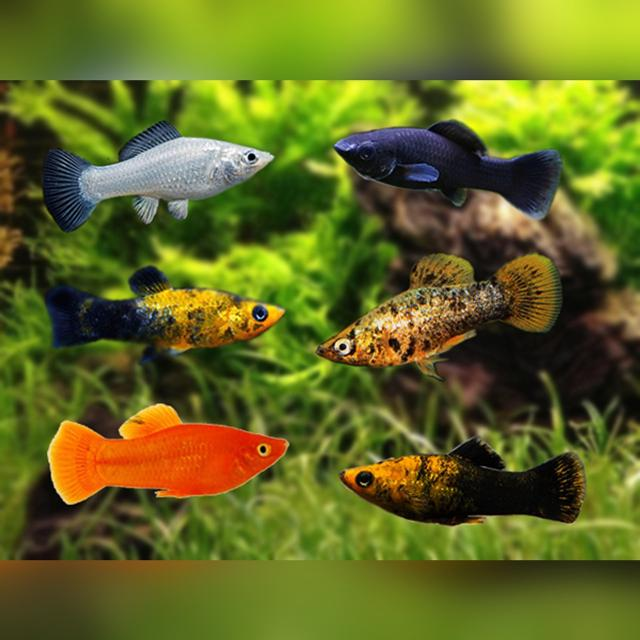Mulut: (328, 130, 358, 177), (256, 137, 288, 179), (267, 428, 301, 462), (262, 294, 288, 334), (307, 335, 339, 367), (333, 461, 359, 492)
Sirip Anal: (440, 324, 488, 358), (128, 191, 166, 229), (442, 178, 478, 210), (454, 504, 494, 530), (150, 482, 187, 508)
Sirip Dada: (398, 156, 447, 192), (185, 308, 222, 346)
Sirip Ekor: (37, 412, 115, 510), (494, 244, 566, 350), (513, 134, 579, 236), (36, 141, 100, 241), (532, 443, 600, 537), (35, 280, 113, 354)
Sirip Perut: (162, 194, 205, 222), (415, 354, 447, 391)
Sirip Punggung: (114, 399, 194, 449), (112, 116, 186, 162), (430, 108, 492, 156), (449, 434, 513, 474), (126, 256, 176, 306)
